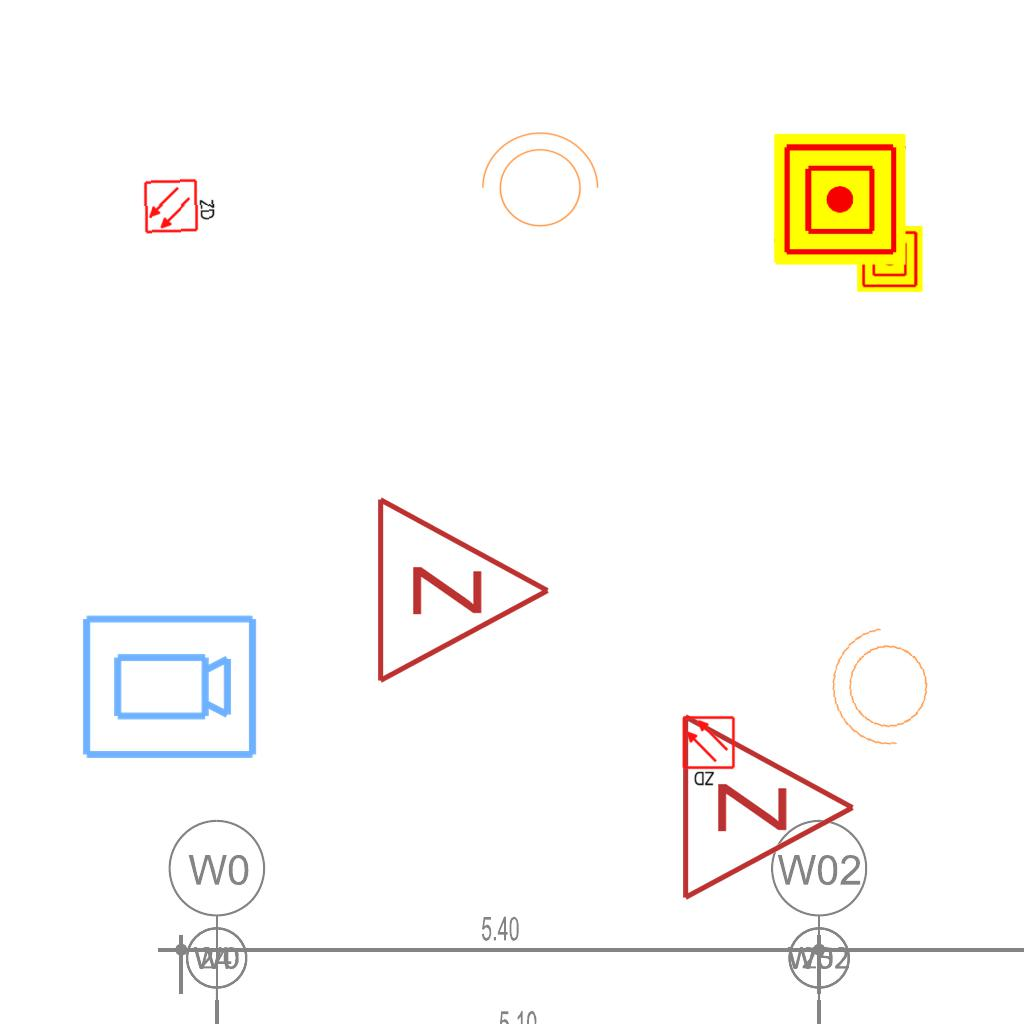KFO_Kamera_mit_Festobjektiv: (78, 611, 260, 765)
NAM-Nichtautomatischer_Melder: (774, 133, 906, 265), (857, 226, 923, 292)
Scheinwerfer_fuer_Alarmbeleuchtung: (819, 616, 949, 764), (471, 127, 603, 239)
ZD_Melder_in_Zwischendecke_mit_Revisionsoeffnung_mind_40_x_40_cm: (142, 175, 219, 235), (681, 715, 738, 789)
Zimmersignalleuchte: (363, 490, 563, 686), (668, 707, 868, 903)
